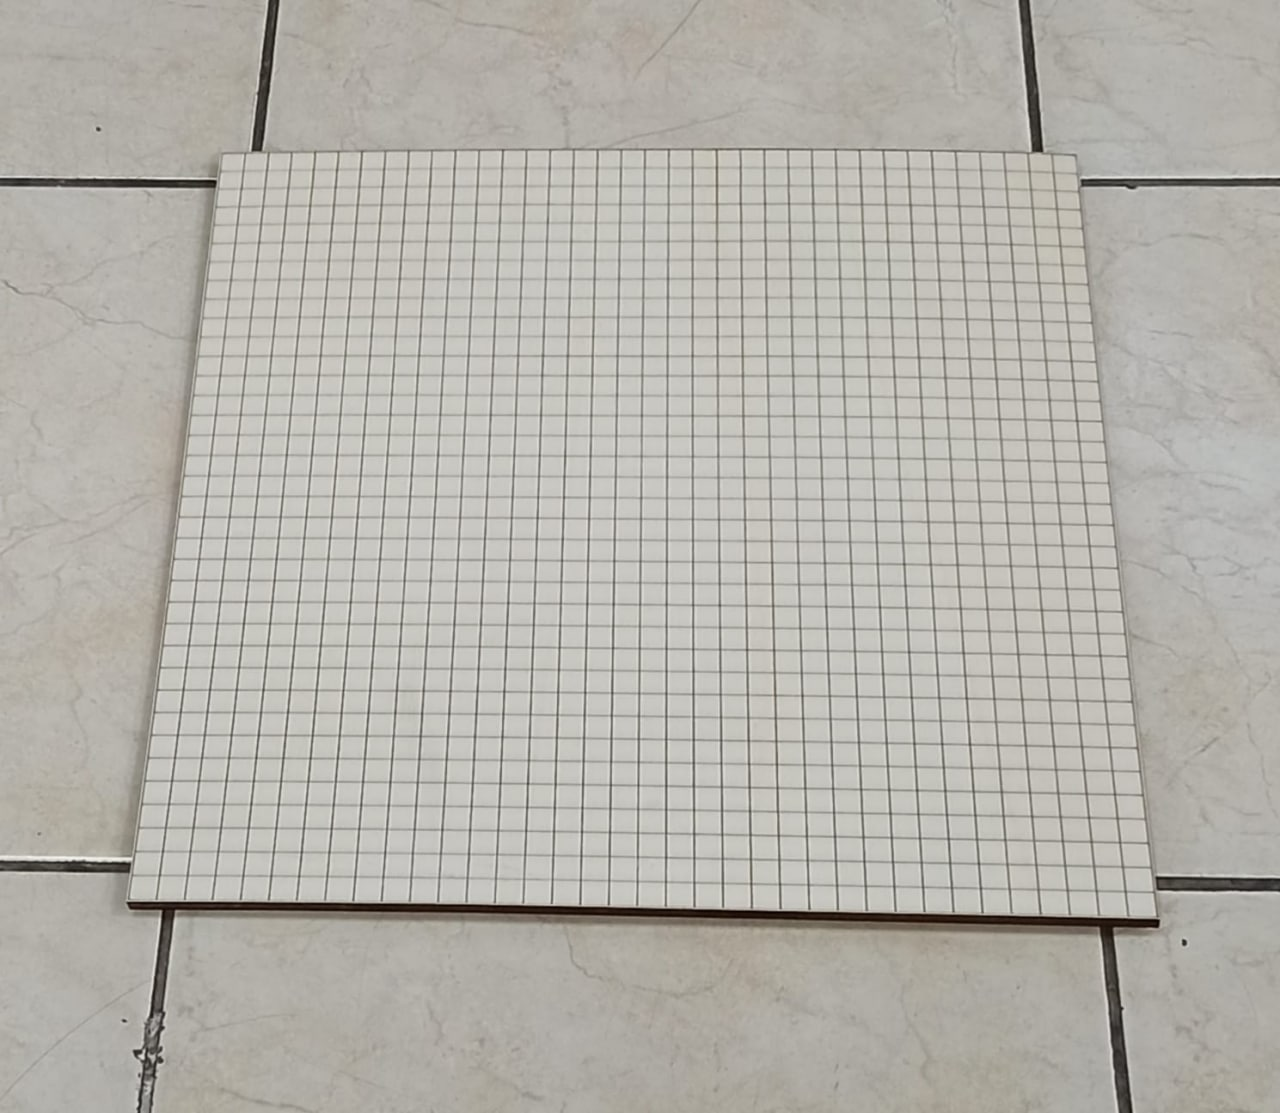grid: (121, 143, 1172, 942)
